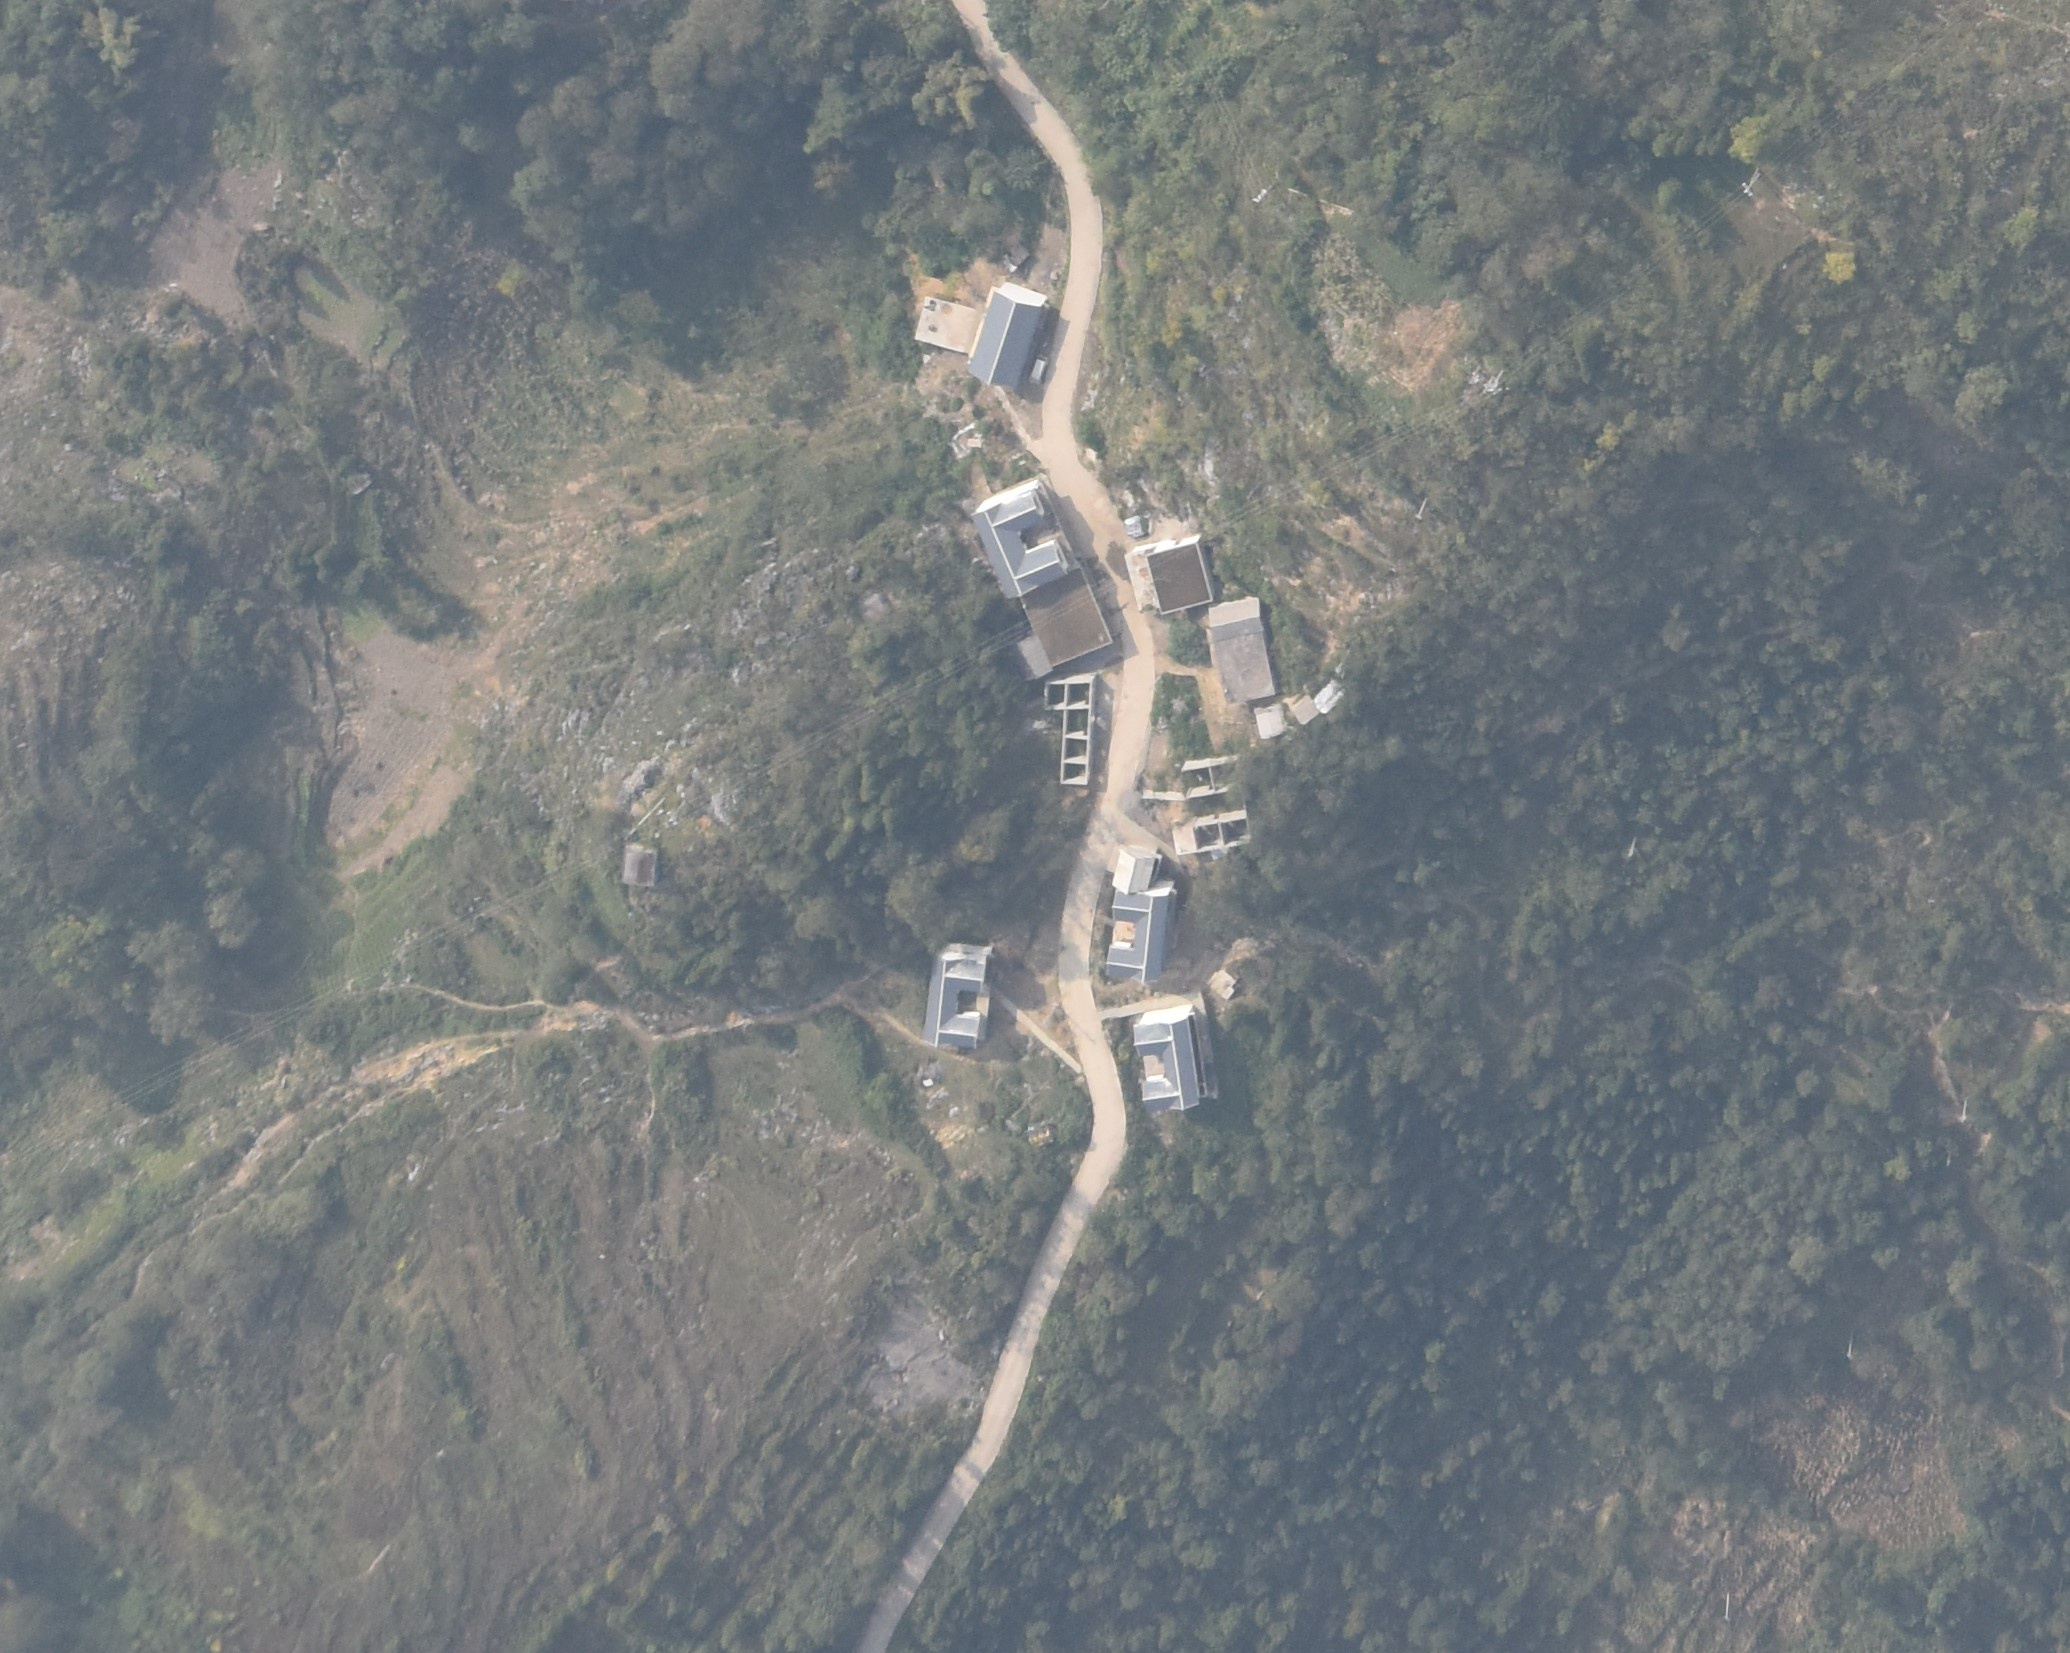building: (972, 472, 1068, 597), (1021, 563, 1115, 668), (1134, 1004, 1220, 1112), (963, 282, 1048, 390), (1201, 595, 1277, 698), (921, 941, 989, 1051), (1124, 535, 1213, 616), (1107, 887, 1174, 983), (1048, 680, 1093, 788), (913, 297, 980, 353), (1166, 813, 1252, 855), (1178, 761, 1242, 800), (626, 843, 656, 889)
cable-tower: (623, 798, 668, 838), (1485, 368, 1505, 396), (1743, 169, 1760, 197), (1253, 180, 1274, 202), (1412, 494, 1426, 520), (1468, 363, 1481, 386)
prefabricated-house: (1112, 845, 1159, 894)
vehicle: (1027, 354, 1049, 383)
